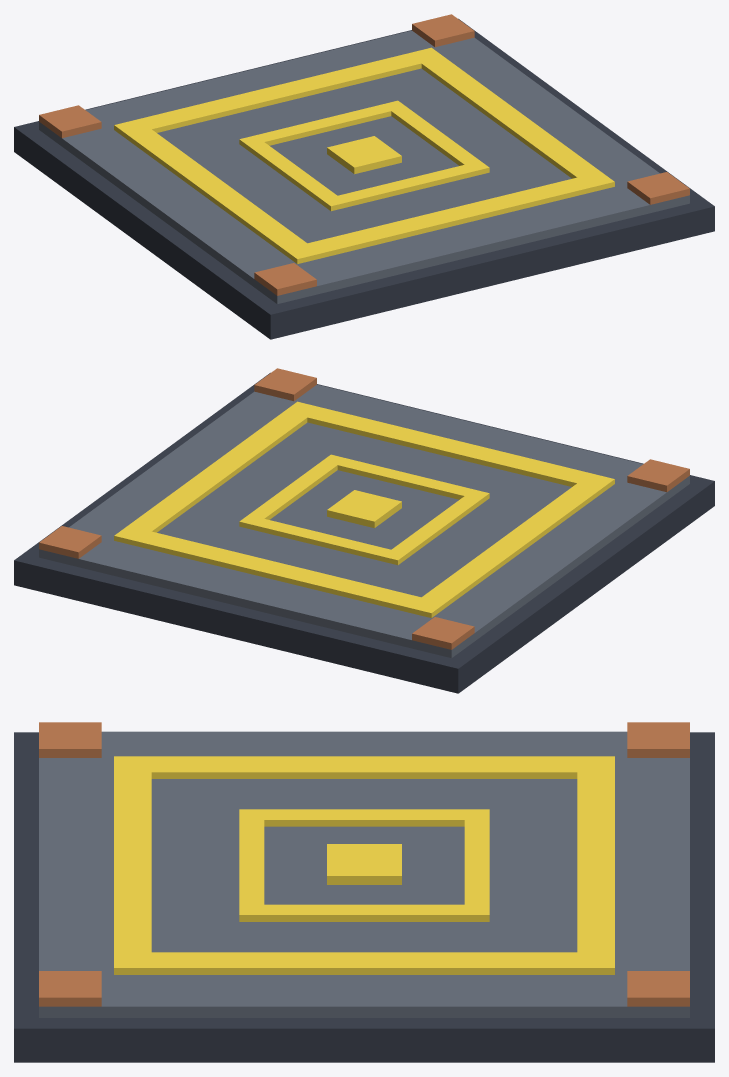
Rendered from charge_plate.glb.
The picture shows the model from 3 angles, top to bottom: view 1: azimuth 30°, elevation 25°; view 2: azimuth 150°, elevation 25°; view 3: azimuth 270°, elevation 25°; orthographic projection. The views are drawn at different scales.
Visible parts, largest first — view 1: body.031; view 2: body.031; view 3: body.031.
Boxes of the visible parts, x1,y1,x2,y2 form: body.031: [14, 14, 714, 339]; body.031: [14, 368, 714, 693]; body.031: [14, 722, 714, 1062].
Bounding box in the file's own units: 0.875 × 0.075 × 0.875.
